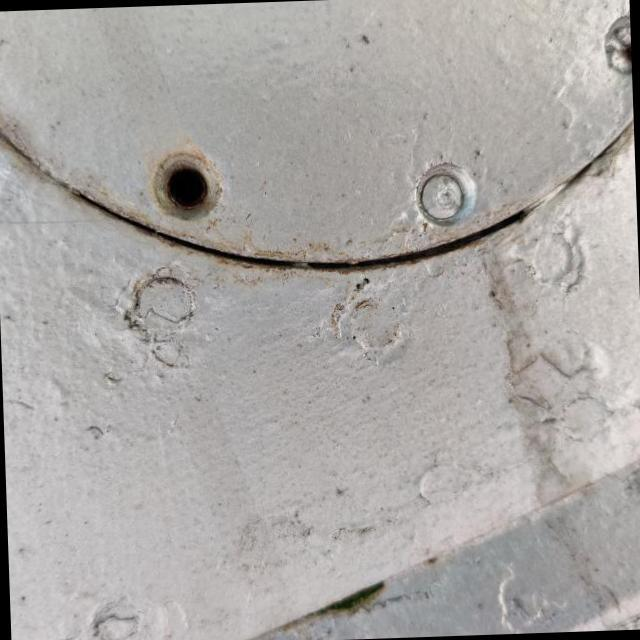Fastener Damage: (120, 122, 250, 252)
